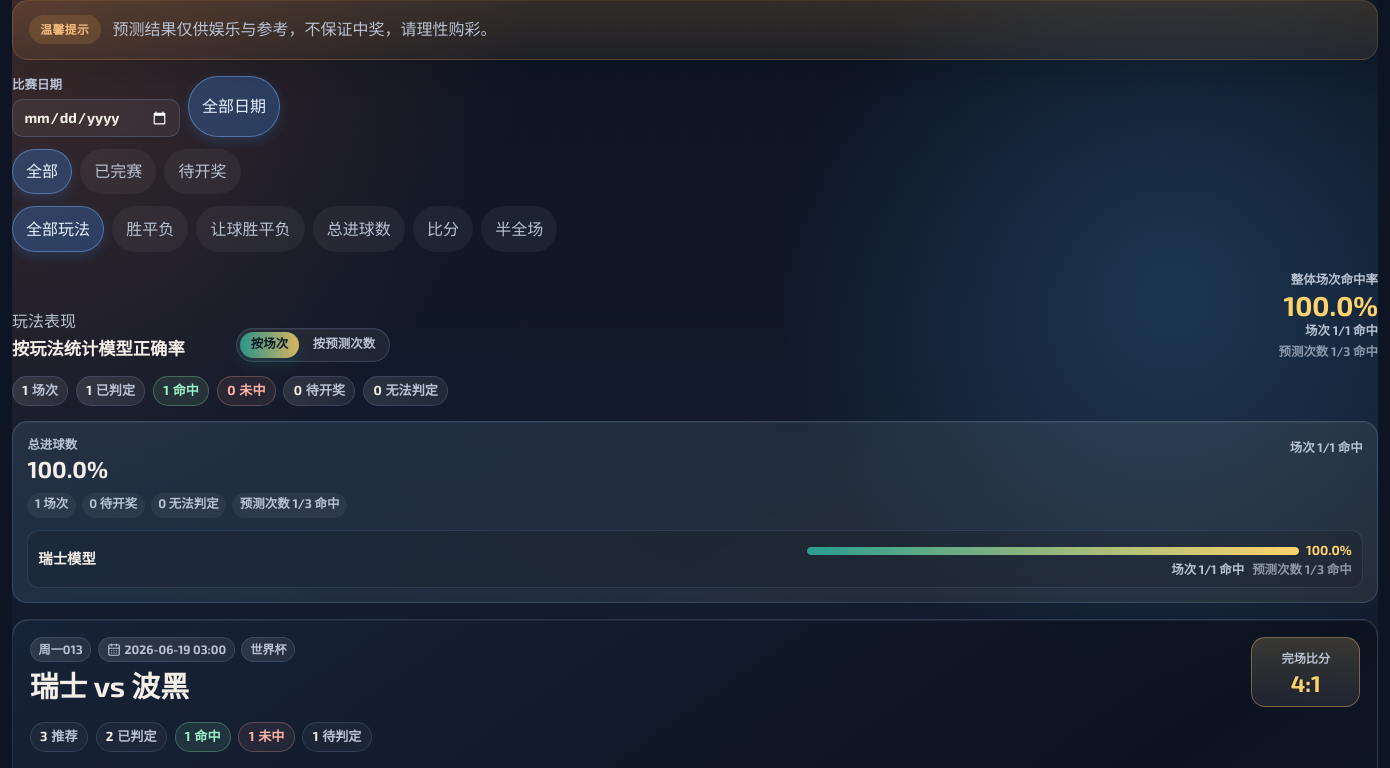
Test: WorldCupHistoryPage › defaults to match metrics and switches to prediction-count metrics
The image size is (1390, 768).
Expected: the text "整体场次命中率" is shown, [1291, 270, 1378, 289]
Expected: the text "100.0%" below "整体场次命中率" is shown, [1284, 289, 1378, 321]
Click the button "按预测次数" at {"x": 344, "y": 345}, box [302, 332, 386, 358]
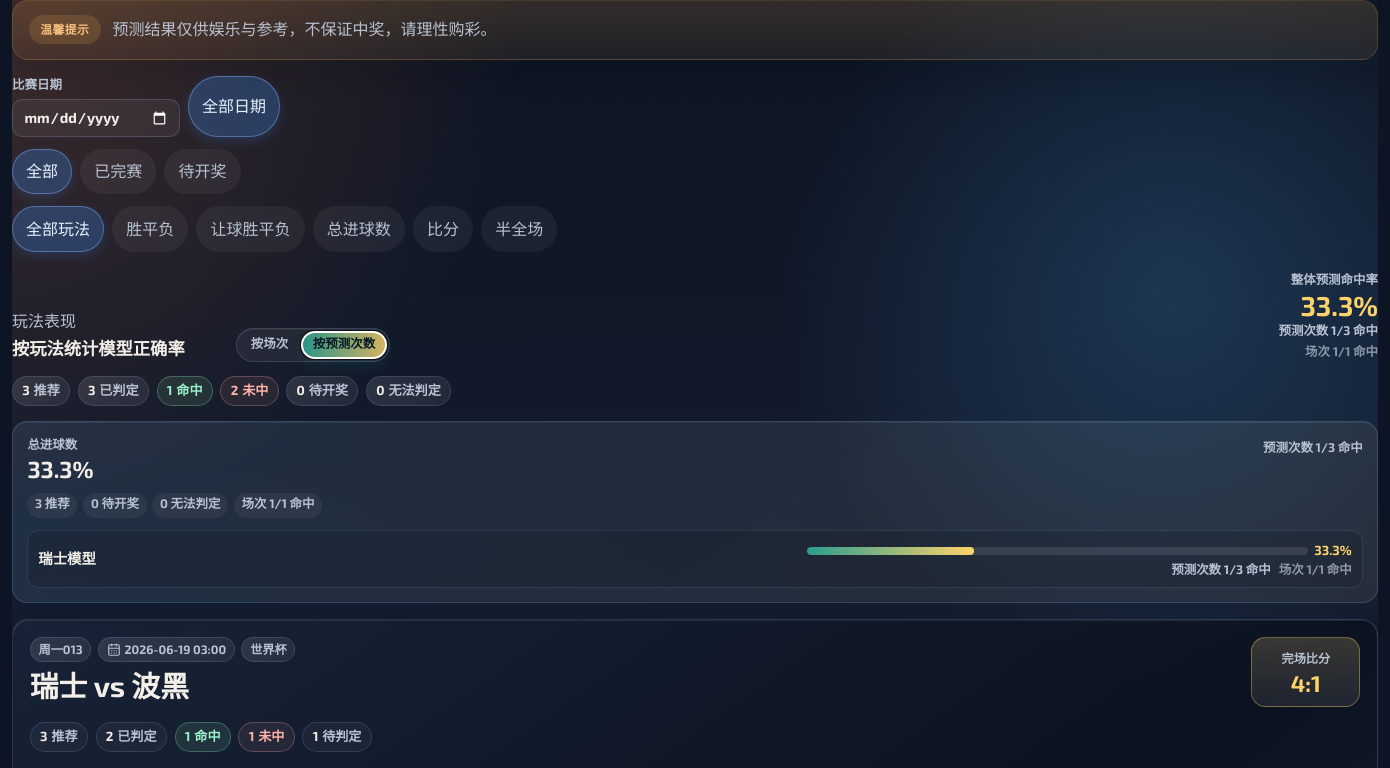
Expected: the text "整体预测命中率" is shown, [1291, 270, 1378, 289]
Expected: the text "33.3%" below "整体预测命中率" is shown, [1300, 289, 1378, 321]
Expected: the text "预测次数 1/3 命中" below "整体预测命中率" is shown, [1278, 322, 1378, 338]
